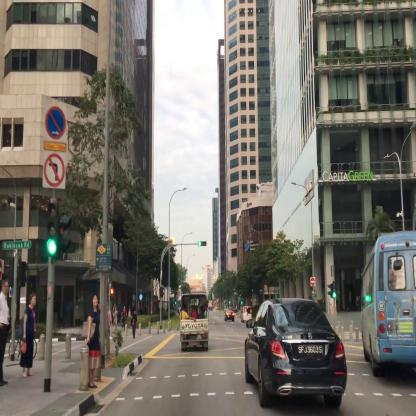green_traffic_light: (48, 200, 58, 256), (198, 240, 208, 246), (332, 281, 335, 299)
